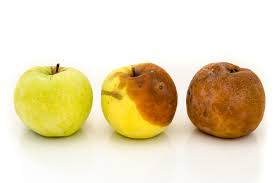apple: (13, 70, 96, 138)
damaged_apple: (184, 63, 266, 144), (100, 60, 178, 141)
